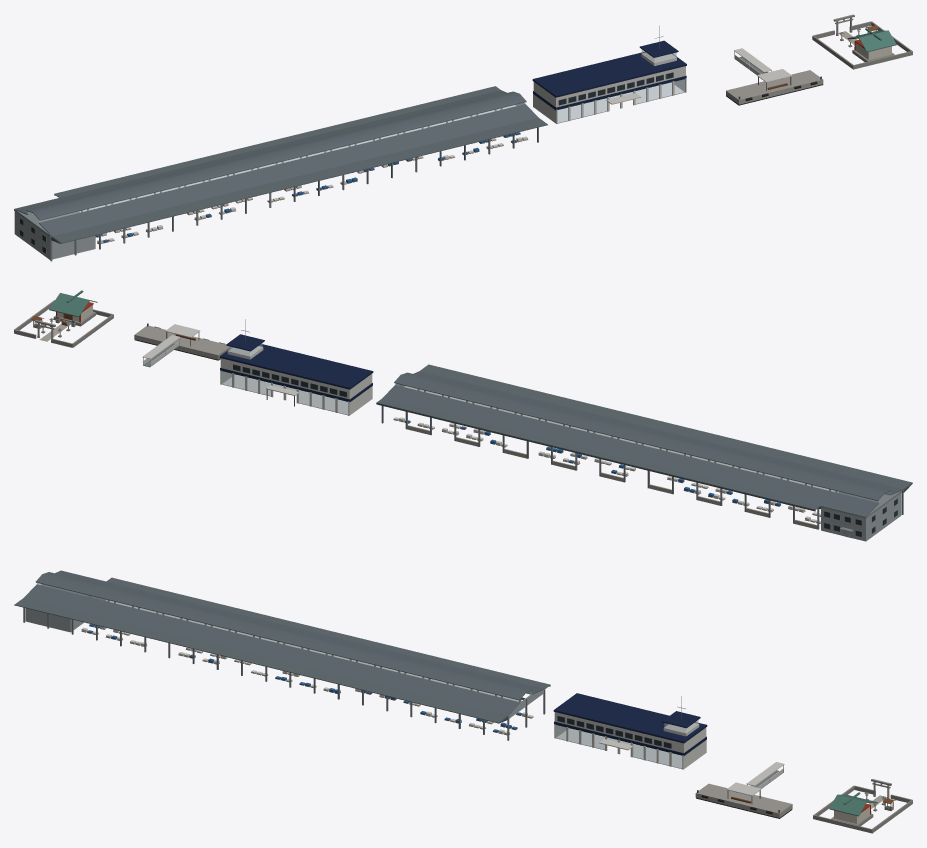
File: shinshio.glb
The picture shows the model from 3 angles, top to bottom: view 1: azimuth 30°, elevation 25°; view 2: azimuth 150°, elevation 25°; view 3: azimuth 330°, elevation 25°; orthographic projection.
Visible parts, largest first — view 1: shinshio_ichiba_body, shinshio_terminal_body, shinshio_pontoon_body, shinshio_jinja_body; view 2: shinshio_ichiba_body, shinshio_terminal_body, shinshio_jinja_body, shinshio_pontoon_body; view 3: shinshio_ichiba_body, shinshio_terminal_body, shinshio_pontoon_body, shinshio_jinja_body.
Boxes of the visible parts, bbox=[...] form: shinshio_ichiba_body: bbox=[14, 86, 547, 261]; shinshio_terminal_body: bbox=[532, 24, 686, 123]; shinshio_pontoon_body: bbox=[726, 48, 823, 105]; shinshio_jinja_body: bbox=[812, 14, 912, 69]; shinshio_ichiba_body: bbox=[376, 364, 912, 541]; shinshio_terminal_body: bbox=[219, 318, 373, 415]; shinshio_jinja_body: bbox=[14, 290, 113, 347]; shinshio_pontoon_body: bbox=[134, 323, 230, 367]; shinshio_ichiba_body: bbox=[14, 570, 550, 740]; shinshio_terminal_body: bbox=[553, 693, 707, 769]; shinshio_pontoon_body: bbox=[695, 762, 792, 818]; shinshio_jinja_body: bbox=[813, 779, 912, 833].
Bounding box in the file's own units: 264 × 20.2 × 28.
